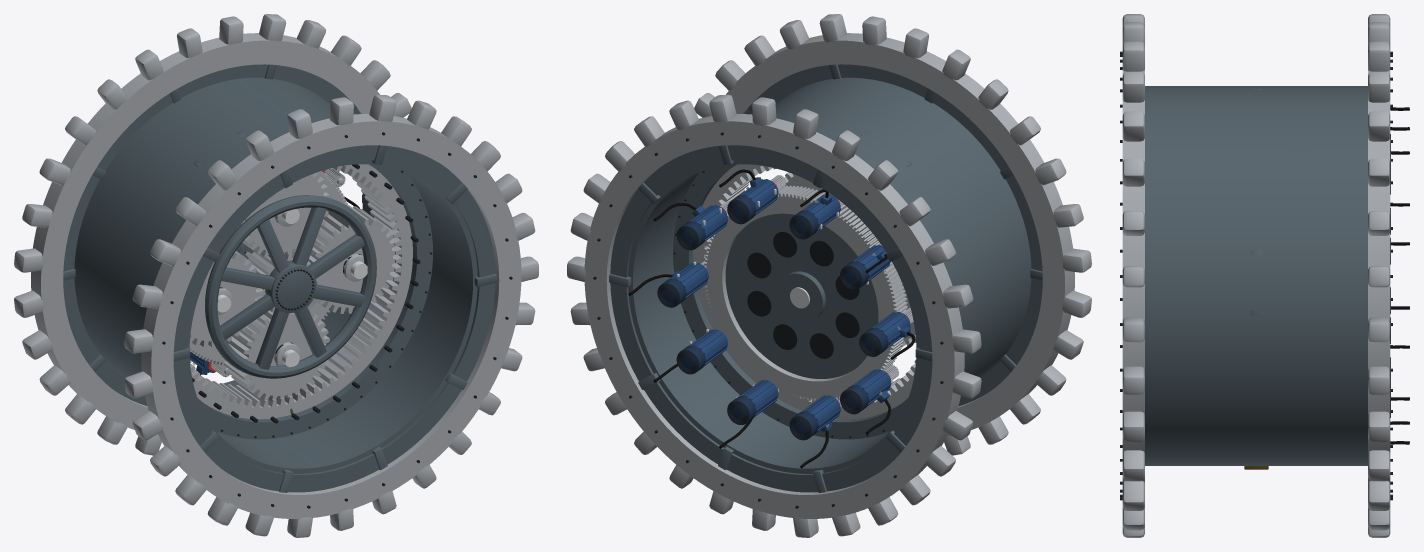
The model's file is train.glb.
3 renders of one model, left to right at view 1: azimuth 30°, elevation 25°; view 2: azimuth 150°, elevation 25°; view 3: azimuth 270°, elevation 25°, orthographic. The views are drawn at different scales.
Visible parts, largest first — view 1: sprocket, hubdrum, ringgear, carrier, planet3, planet0, planet1, planet2, bull, sun; view 2: sprocket, hubdrum, bull, ringgear, motor1, motor7, motor6, motor2, motor0, motor5, motor8, motor3 (+2 smaller); view 3: hubdrum, sprocket.
Part boxes in pixels (x1,y1,x2,y2): sprocket: (14, 14, 538, 537); hubdrum: (74, 77, 477, 473); ringgear: (190, 131, 432, 439); carrier: (205, 195, 376, 378); planet3: (222, 308, 329, 400); planet0: (308, 204, 396, 313); planet1: (238, 172, 329, 257); planet2: (190, 251, 261, 347); bull: (189, 171, 347, 365); sun: (245, 250, 310, 312); sprocket: (567, 14, 1091, 537); hubdrum: (628, 77, 1031, 473); bull: (704, 185, 907, 400); ringgear: (673, 131, 915, 439); motor1: (653, 203, 727, 250); motor7: (789, 395, 840, 468); motor6: (840, 369, 891, 434); motor2: (719, 169, 778, 224); motor0: (628, 261, 708, 307); motor5: (859, 311, 915, 359); motor8: (719, 380, 778, 448); motor3: (789, 189, 840, 239); hubdrum: (1145, 86, 1367, 465); sprocket: (1120, 14, 1392, 537).
Bounding box in the file's own units: 25.6 × 25.64 × 14.18.
